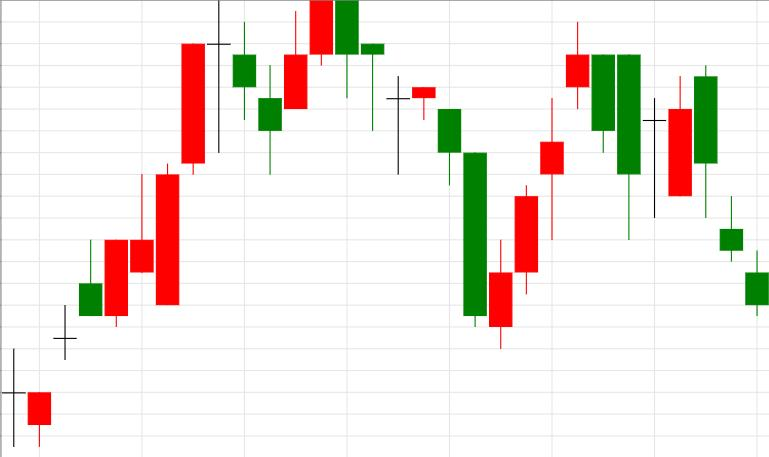bearish_engulfing_fall: (258, 0, 359, 177)
evening_star_fall: (104, 0, 256, 326)
three_white_soldiers_rise: (413, 86, 564, 350)
